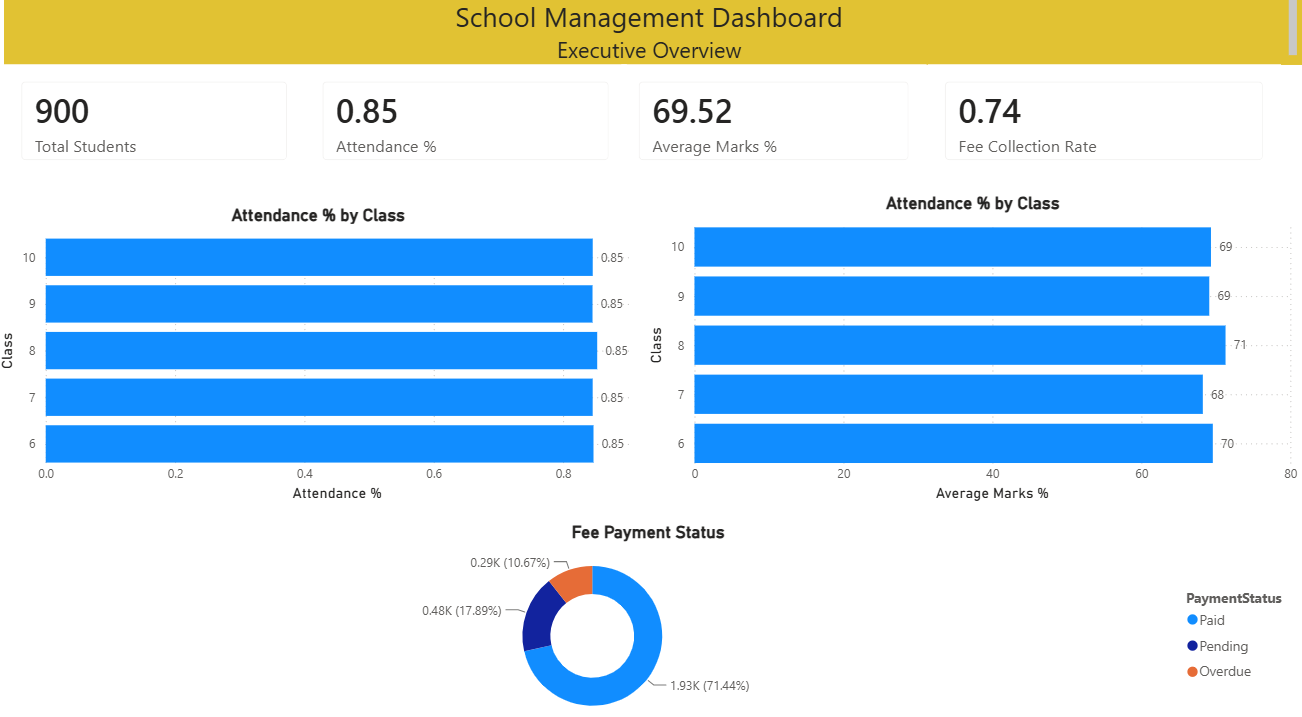

Layout of this report page (visuals, bound fields, positions):
{"tool":"powerbi","page":{"name":"Executive Overview","canvas":[1280,720],"ordinal":0},"visuals":[{"type":"textbox","box":[10,0,280,280],"z":0},{"type":"textbox","box":[10,0,1270,70],"z":1},{"type":"cardVisual","fields":{"Data":["Students.Total Students"]},"box":[10,70,294.3,111.4],"z":2},{"type":"cardVisual","fields":{"Data":["Attendance.Attendance %"]},"box":[304.3,70,314.3,111.4],"z":3},{"type":"cardVisual","fields":{"Data":["Marks.Average Marks %"]},"box":[614.3,70,298.6,111.4],"z":4},{"type":"cardVisual","fields":{"Data":["FeePayments.Fee Collection Rate"]},"box":[912.9,70,345.7,111.4],"z":5},{"type":"clusteredBarChart","title":"Attendance % by Class","fields":{"Category":["Students.Class"],"Y":["Attendance.Attendance %"]},"box":[0,207.1,634.3,295.7],"z":6},{"type":"clusteredBarChart","title":"Attendance % by Class","fields":{"Category":["Students.Class"],"Y":["Marks.Average Marks %"]},"box":[634.3,195.7,645.7,307.1],"z":7},{"type":"donutChart","title":"Fee Payment Status","fields":{"Category":["FeePayments.PaymentStatus"],"Y":["CountNonNull(FeePayments.StudentID)"]},"box":[0,517.1,1280,202.9],"z":8}]}

Visuals, with their boxes in screenshot pixels (x1, y1, x2, y2), scaled from the page's 1280x720 canvas onto the 1302x717 screenshot:
textbox: <region>10, 0, 295, 279</region>
textbox: <region>10, 0, 1301, 70</region>
cardVisual - Students.Total Students: <region>10, 70, 310, 181</region>
cardVisual - Attendance.Attendance %: <region>310, 70, 629, 181</region>
cardVisual - Marks.Average Marks %: <region>625, 70, 929, 181</region>
cardVisual - FeePayments.Fee Collection Rate: <region>929, 70, 1280, 181</region>
"Attendance % by Class" clusteredBarChart: <region>0, 206, 645, 501</region>
"Attendance % by Class" clusteredBarChart: <region>645, 195, 1301, 501</region>
"Fee Payment Status" donutChart: <region>0, 515, 1301, 716</region>
